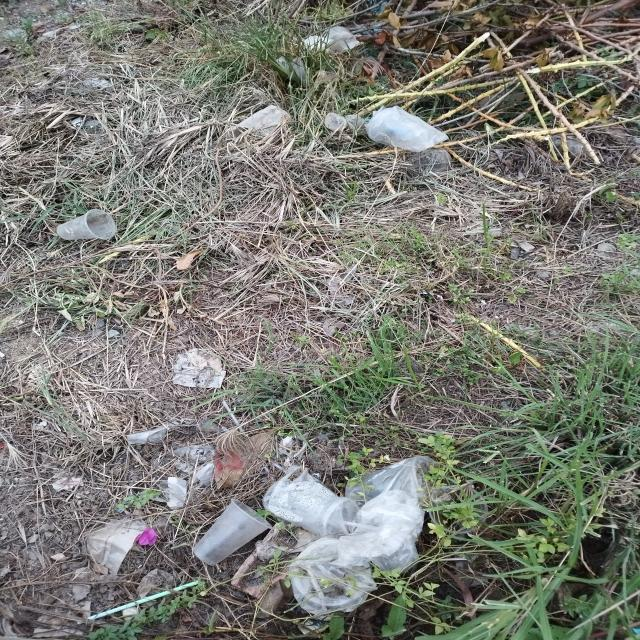bag: (365, 105, 449, 153)
drinking straw: (77, 580, 198, 624)
plastic glass: (192, 498, 273, 566), (56, 209, 116, 240)
trash bag: (263, 455, 425, 615)
